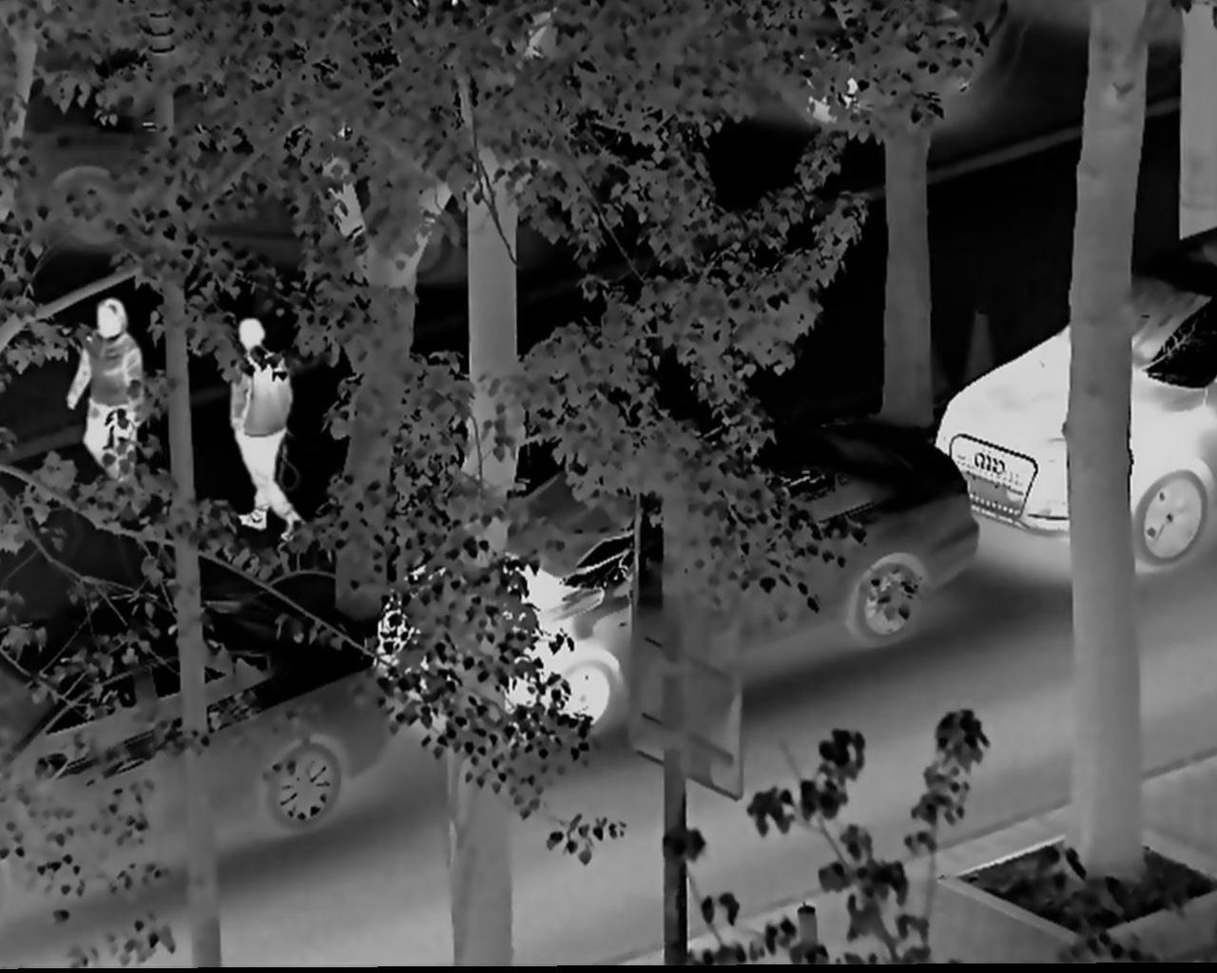person: (215, 309, 316, 560), (68, 291, 153, 506)
